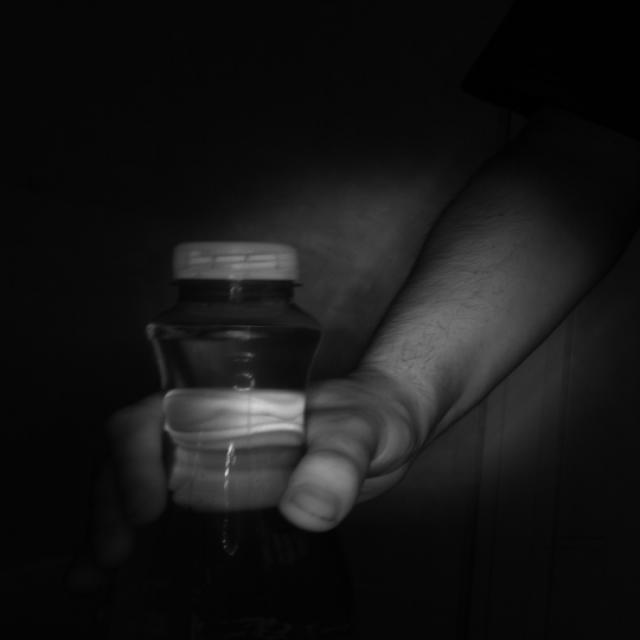Good: (166, 236, 308, 286)
